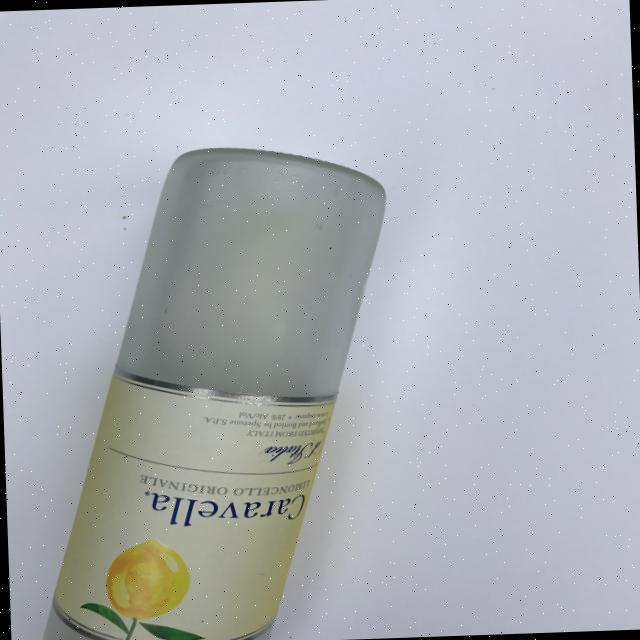glass: (31, 140, 402, 640)
